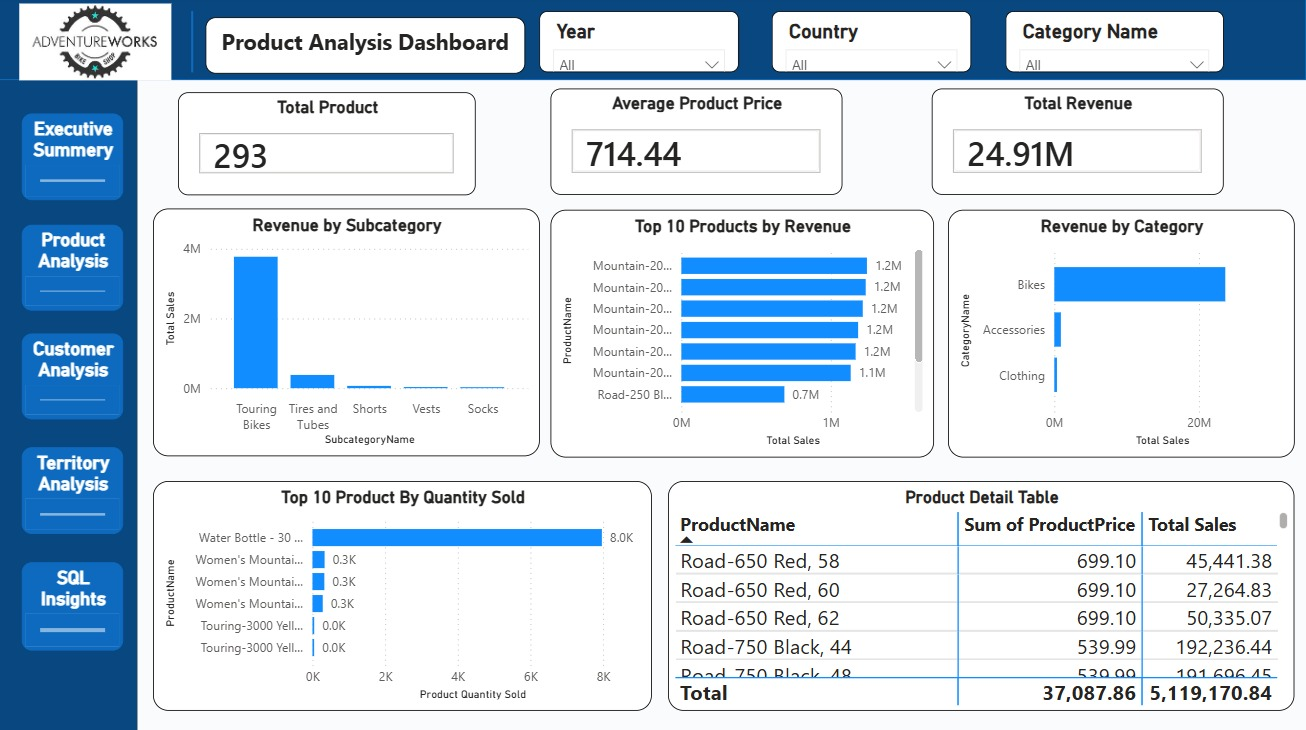

Layout of this report page (visuals, bound fields, positions):
{"tool":"powerbi","page":{"name":"Product Analysis","canvas":[1280,720],"ordinal":1},"visuals":[{"type":"shape","box":[0,4.3,137.1,715.6],"z":0},{"type":"shape","box":[0,0,1279.7,82.2],"z":1000},{"type":"image","box":[0,7.2,190.4,75],"z":2000},{"type":"shape","box":[151.7,15,76.7,60],"z":3000},{"type":"textbox","box":[203.4,20.2,313.1,54.8],"z":4000},{"type":"cardVisual","title":"Total Product","fields":{"Data":["dimcustomer.Total Products"]},"box":[176,93.8,291.4,101],"z":5000},{"type":"cardVisual","title":"Average Product Price","fields":{"Data":["dimproduct.Average Product Price"]},"box":[541,90.9,285.7,103.9],"z":6000},{"type":"cardVisual","title":"Total Revenue","fields":{"Data":["factsales.Total Sales"]},"box":[913.3,90.9,285.7,103.9],"z":7000},{"type":"slicer","fields":{"Values":["dimdate.Year"]},"box":[530,15,195,60],"z":8000},{"type":"slicer","fields":{"Values":["dimterritory.Country"]},"box":[756.7,15,195,60],"z":9000},{"type":"slicer","fields":{"Values":["dimproductcategory.CategoryName"]},"box":[985,15,213.3,60],"z":10000},{"type":"clusteredBarChart","title":"Top 10 Products by Revenue","fields":{"Category":["dimproduct.ProductName"],"Y":["factsales.Total Sales"]},"box":[541,209.2,375.1,242.4],"z":16000},{"type":"clusteredBarChart","title":"Top 10  Product By Quantity Sold ","fields":{"Category":["dimproduct.ProductName"],"Y":["factsales.Product Quantity Sold"]},"box":[151.6,474.5,487.9,225],"z":17000},{"type":"clusteredColumnChart","title":"Revenue by Subcategory","fields":{"Category":["dimproductsubcategory.SubcategoryName"],"Y":["factsales.Total Sales"]},"box":[151.5,207.8,378,242.4],"z":18000},{"type":"clusteredBarChart","title":"Revenue by Category","fields":{"Category":["dimproductcategory.CategoryName"],"Y":["factsales.Total Sales"]},"box":[929.1,209.2,339,242.4],"z":19000},{"type":"tableEx","title":"Product Detail Table","fields":{"Values":["dimproduct.ProductName","Sum(dimproduct.ProductPrice)","factsales.Total Sales"]},"box":[655.4,474.5,612.6,225],"z":20000},{"type":"actionButton","title":"Executive Summery","box":[23.1,115.4,99.6,85.1],"z":20001},{"type":"actionButton","title":"Product Analysis","box":[23.1,223.6,99.6,83.7],"z":20002},{"type":"actionButton","title":"Customer Analysis","box":[23.1,330.4,99.6,83.7],"z":20003},{"type":"actionButton","title":"Territory Analysis","box":[23.1,441.5,99.6,85.1],"z":20004},{"type":"actionButton","title":"SQL Insights","box":[23.1,554,99.6,86.6],"z":20005}]}

Visuals, with their boxes in screenshot pixels (x1, y1, x2, y2), scaled from the page's 1280x720 canvas onto the 1306x730 screenshot:
shape: [x1=0, y1=4, x2=140, y2=729]
shape: [x1=0, y1=0, x2=1305, y2=83]
image: [x1=0, y1=7, x2=194, y2=83]
shape: [x1=155, y1=15, x2=233, y2=76]
textbox: [x1=208, y1=20, x2=527, y2=76]
"Total Product" cardVisual: [x1=180, y1=95, x2=477, y2=198]
"Average Product Price" cardVisual: [x1=552, y1=92, x2=843, y2=198]
"Total Revenue" cardVisual: [x1=932, y1=92, x2=1223, y2=198]
slicer - dimdate.Year: [x1=541, y1=15, x2=740, y2=76]
slicer - dimterritory.Country: [x1=772, y1=15, x2=971, y2=76]
slicer - dimproductcategory.CategoryName: [x1=1005, y1=15, x2=1223, y2=76]
"Top 10 Products by Revenue" clusteredBarChart: [x1=552, y1=212, x2=935, y2=458]
"Top 10  Product By Quantity Sold " clusteredBarChart: [x1=155, y1=481, x2=652, y2=709]
"Revenue by Subcategory" clusteredColumnChart: [x1=155, y1=211, x2=540, y2=456]
"Revenue by Category" clusteredBarChart: [x1=948, y1=212, x2=1294, y2=458]
"Product Detail Table" tableEx: [x1=669, y1=481, x2=1294, y2=709]
"Executive Summery" actionButton: [x1=24, y1=117, x2=125, y2=203]
"Product Analysis" actionButton: [x1=24, y1=227, x2=125, y2=312]
"Customer Analysis" actionButton: [x1=24, y1=335, x2=125, y2=420]
"Territory Analysis" actionButton: [x1=24, y1=448, x2=125, y2=534]
"SQL Insights" actionButton: [x1=24, y1=562, x2=125, y2=649]
